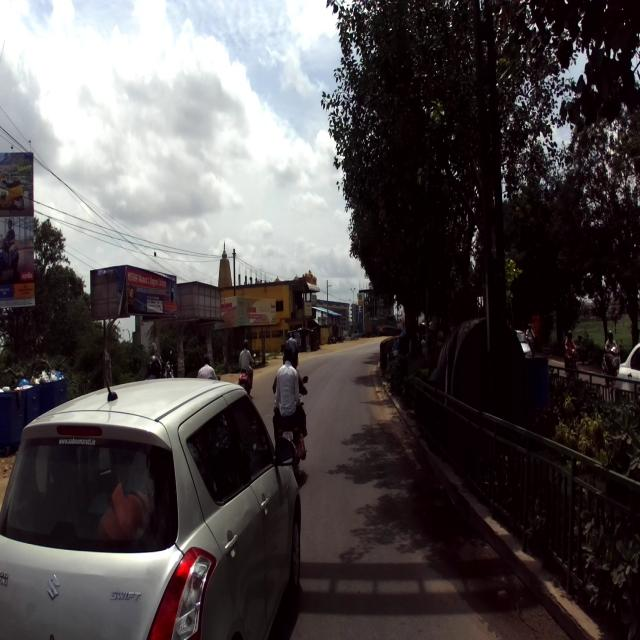Car_Maruti-Suzuki: (0, 372, 303, 638)
motorcycle_Hero: (271, 373, 309, 473)
